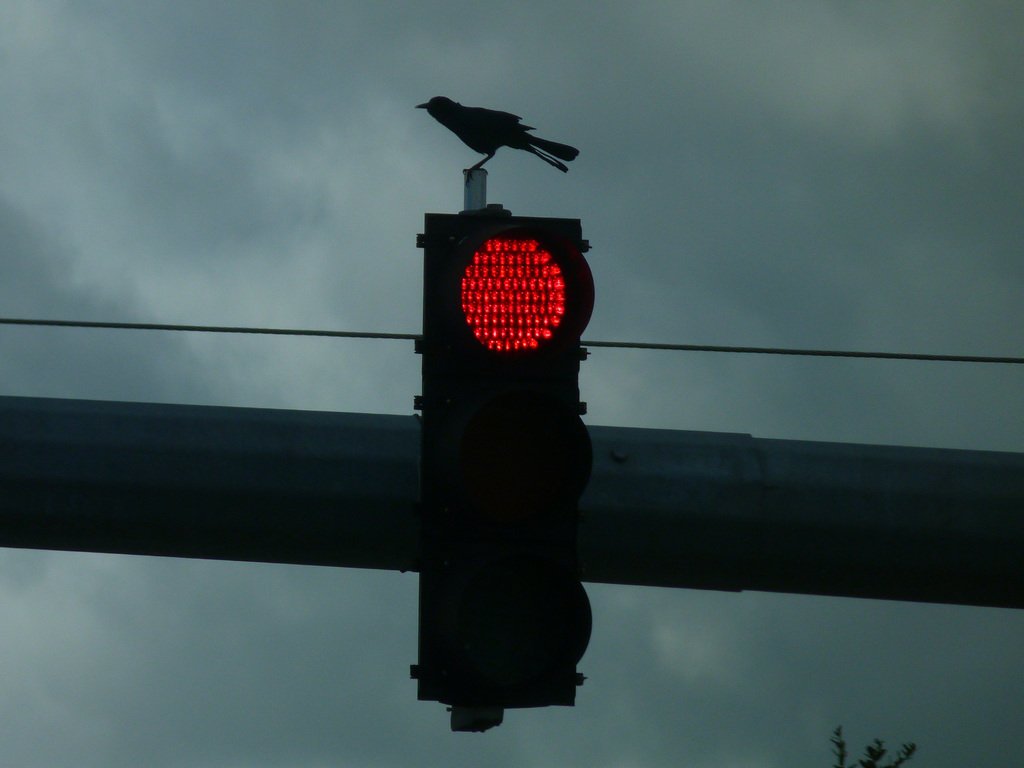red_light: (432, 218, 585, 699)
